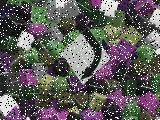Right: (61, 27, 110, 85)
